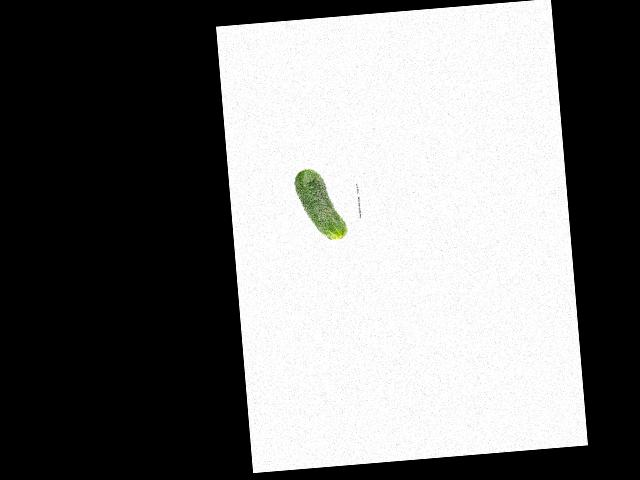cucumber: (293, 165, 348, 242)
